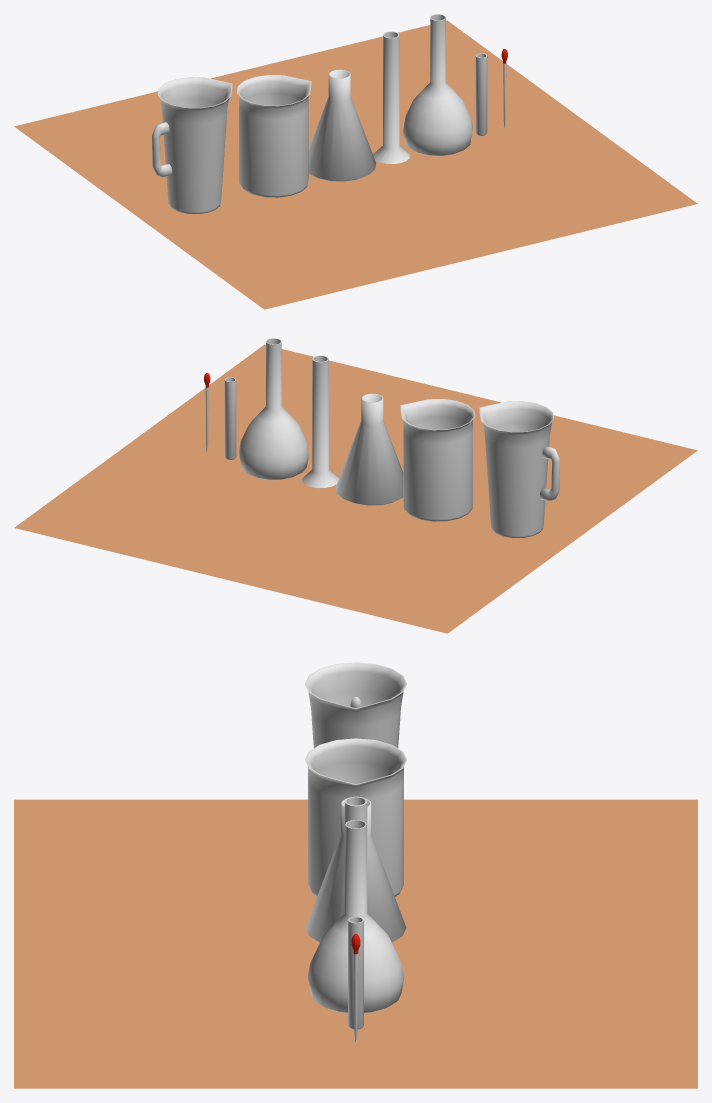
File: Glassware.fbx
3 views of the same model, one above another, from view 1: azimuth 30°, elevation 25°; view 2: azimuth 150°, elevation 25°; view 3: azimuth 270°, elevation 25° (orthographic). The views are drawn at different scales.
Parts seen in each view (by area): view 1: Plane, Gelas Ukur, Beaker, Volumetric Flask, Erenmayer, Graduated Cylinder, Tube; view 2: Plane, Gelas Ukur, Beaker, Volumetric Flask, Erenmayer, Graduated Cylinder, Tube; view 3: Plane, Beaker, Volumetric Flask, Gelas Ukur, Erenmayer, Tube, Graduated Cylinder.
Part boxes in pixels (<box>): Plane: <box>14,20,697,309</box>; Gelas Ukur: <box>152,77,232,213</box>; Beaker: <box>236,75,311,197</box>; Volumetric Flask: <box>403,14,472,156</box>; Erenmayer: <box>308,69,376,181</box>; Graduated Cylinder: <box>373,31,409,164</box>; Tube: <box>475,53,487,135</box>; Plane: <box>14,344,697,633</box>; Gelas Ukur: <box>479,401,559,537</box>; Beaker: <box>400,399,475,521</box>; Volumetric Flask: <box>239,338,308,480</box>; Erenmayer: <box>335,393,403,505</box>; Graduated Cylinder: <box>302,355,338,488</box>; Tube: <box>224,377,236,459</box>; Plane: <box>14,799,697,1088</box>; Beaker: <box>305,738,406,896</box>; Volumetric Flask: <box>307,820,404,1013</box>; Gelas Ukur: <box>305,662,406,747</box>; Erenmayer: <box>305,798,406,942</box>; Tube: <box>348,916,363,1029</box>; Graduated Cylinder: <box>344,796,367,912</box>.
Size of the model in its own units: 502 by 142 by 502.
